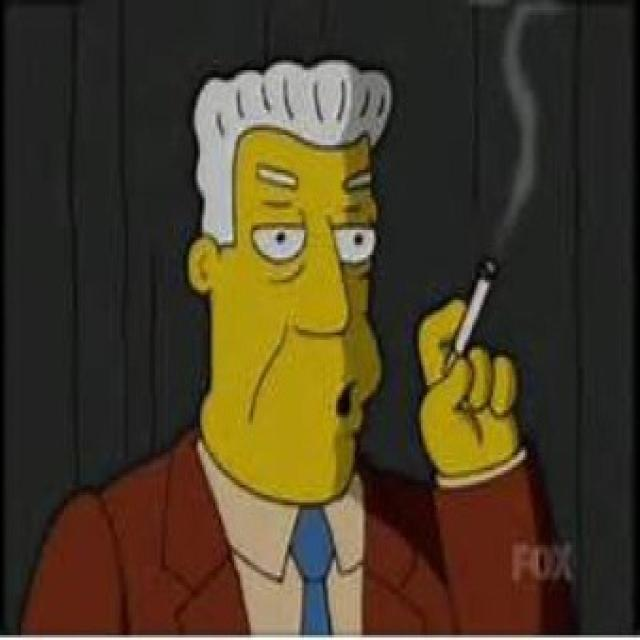Kent Brockman: (183, 51, 398, 509)
